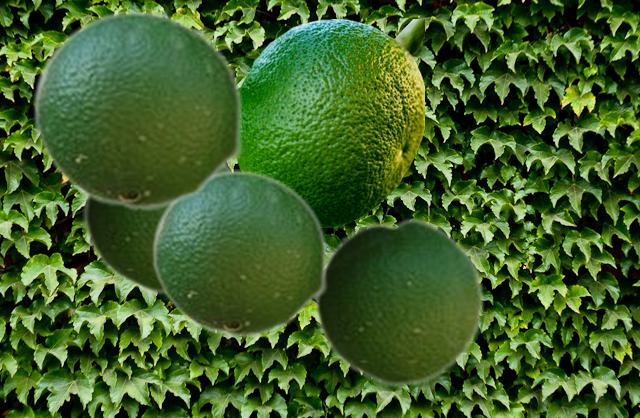dalandan: (32, 9, 243, 211), (236, 19, 423, 226), (151, 169, 327, 338), (313, 215, 484, 388), (82, 165, 233, 295)
